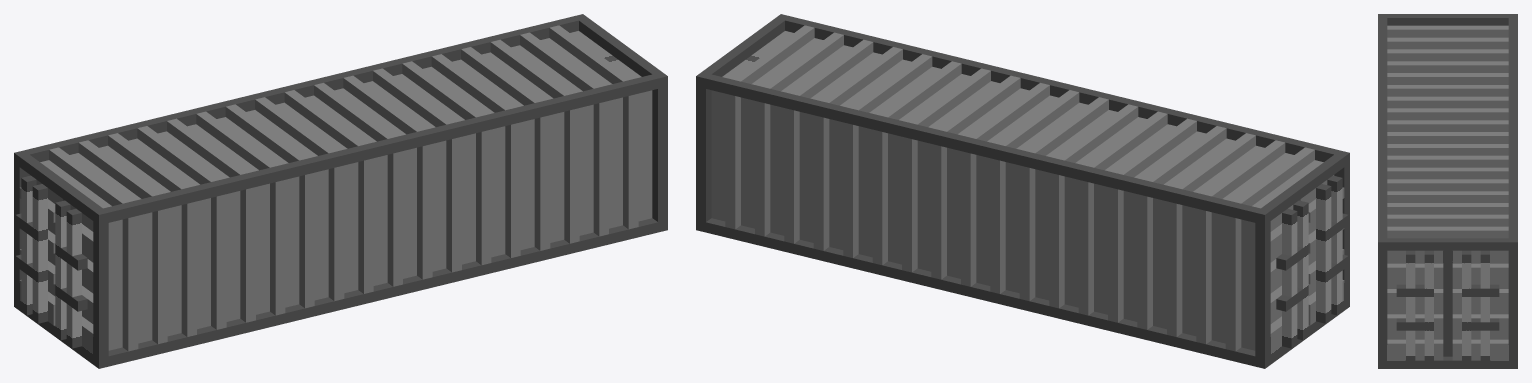
File: obj_container3.fbx
3 renders of one model, left to right at view 1: azimuth 30°, elevation 25°; view 2: azimuth 150°, elevation 25°; view 3: azimuth 270°, elevation 25°, orthographic. The views are drawn at different scales.
Visible parts, largest first — view 1: obj_container3; view 2: obj_container3; view 3: obj_container3.
Part boxes in pixels (x1,y1,x2,y2): obj_container3: (14, 14, 667, 368); obj_container3: (696, 14, 1349, 368); obj_container3: (1378, 14, 1517, 368).
Bounding box in the file's own units: 6 × 1.5 × 1.5.
Materials: 1 (1 with a texture image).
